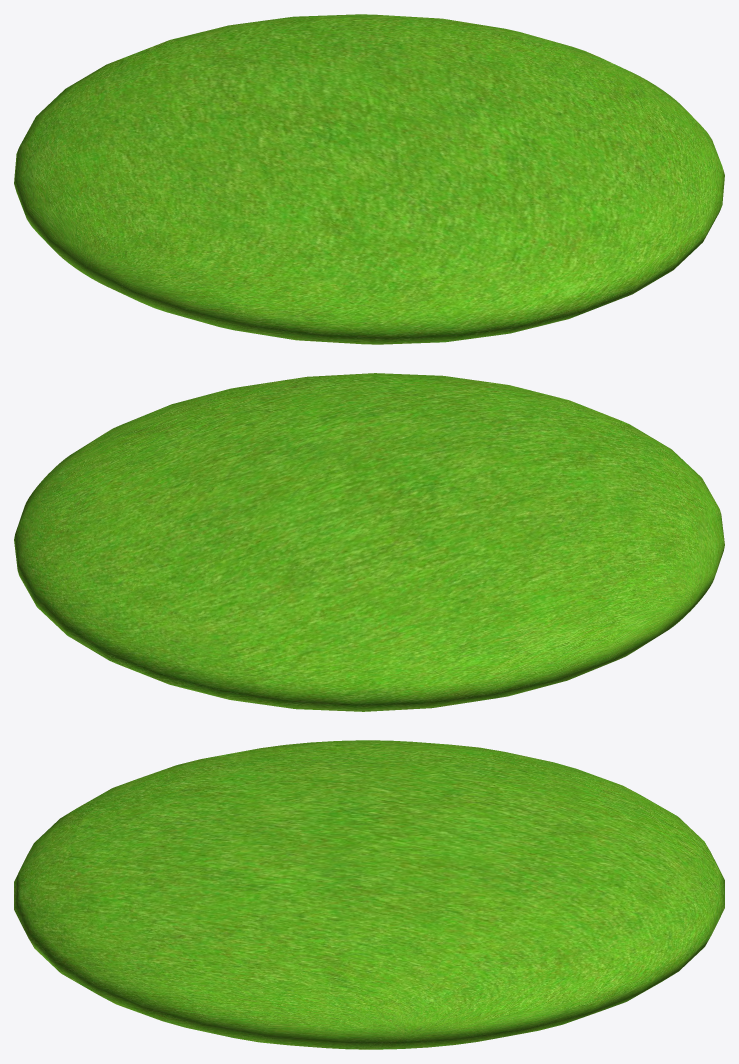
The model's file is GrassGround.fbx.
3 renders of one model, top to bottom at view 1: azimuth 30°, elevation 25°; view 2: azimuth 150°, elevation 25°; view 3: azimuth 270°, elevation 25°, orthographic. The views are drawn at different scales.
Parts seen in each view (by area): view 1: 球; view 2: 球; view 3: 球.
Boxes of the visible parts, x1,y1,x2,y2 form: 球: (14,14,724,344); 球: (14,373,724,711); 球: (14,740,724,1049).
Size of the model in its own units: 152 by 30.33 by 159.
